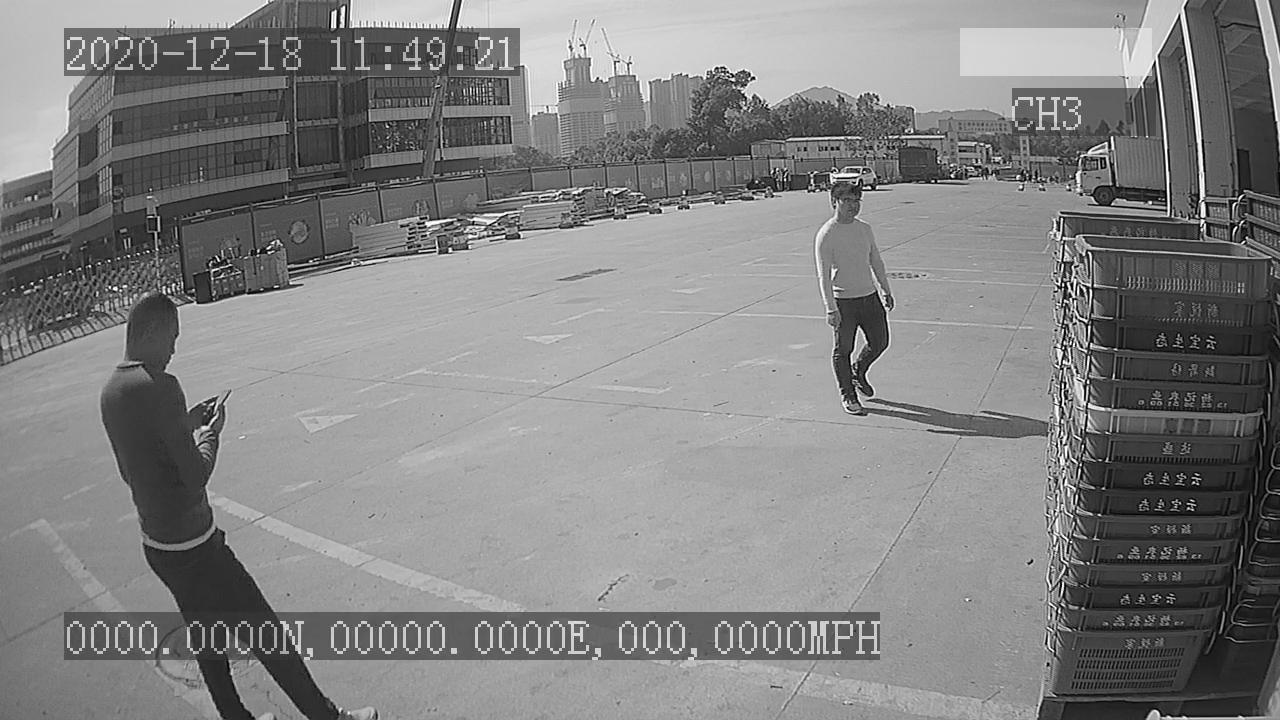person: (808, 176, 895, 417)
